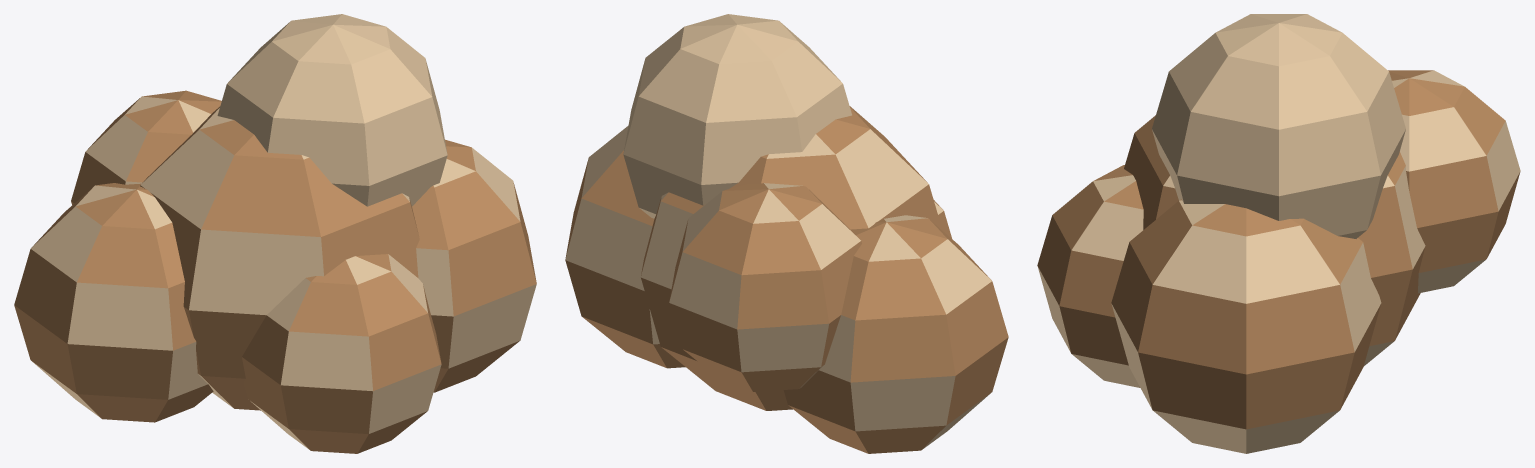
File: alpaca-wool.glb
3 views of the same model, side by side, from view 1: azimuth 30°, elevation 25°; view 2: azimuth 150°, elevation 25°; view 3: azimuth 270°, elevation 25° (orthographic). The views are drawn at different scales.
Parts seen in each view (by area): view 1: alpaca-wool; view 2: alpaca-wool; view 3: alpaca-wool.
Part boxes in pixels (x1,y1,x2,y2): alpaca-wool: (14, 14, 536, 453); alpaca-wool: (565, 14, 1008, 453); alpaca-wool: (1037, 14, 1520, 453).
Size of the model in its own units: 0.3371 by 0.26 by 0.2965.
1 material, 1 textured.
